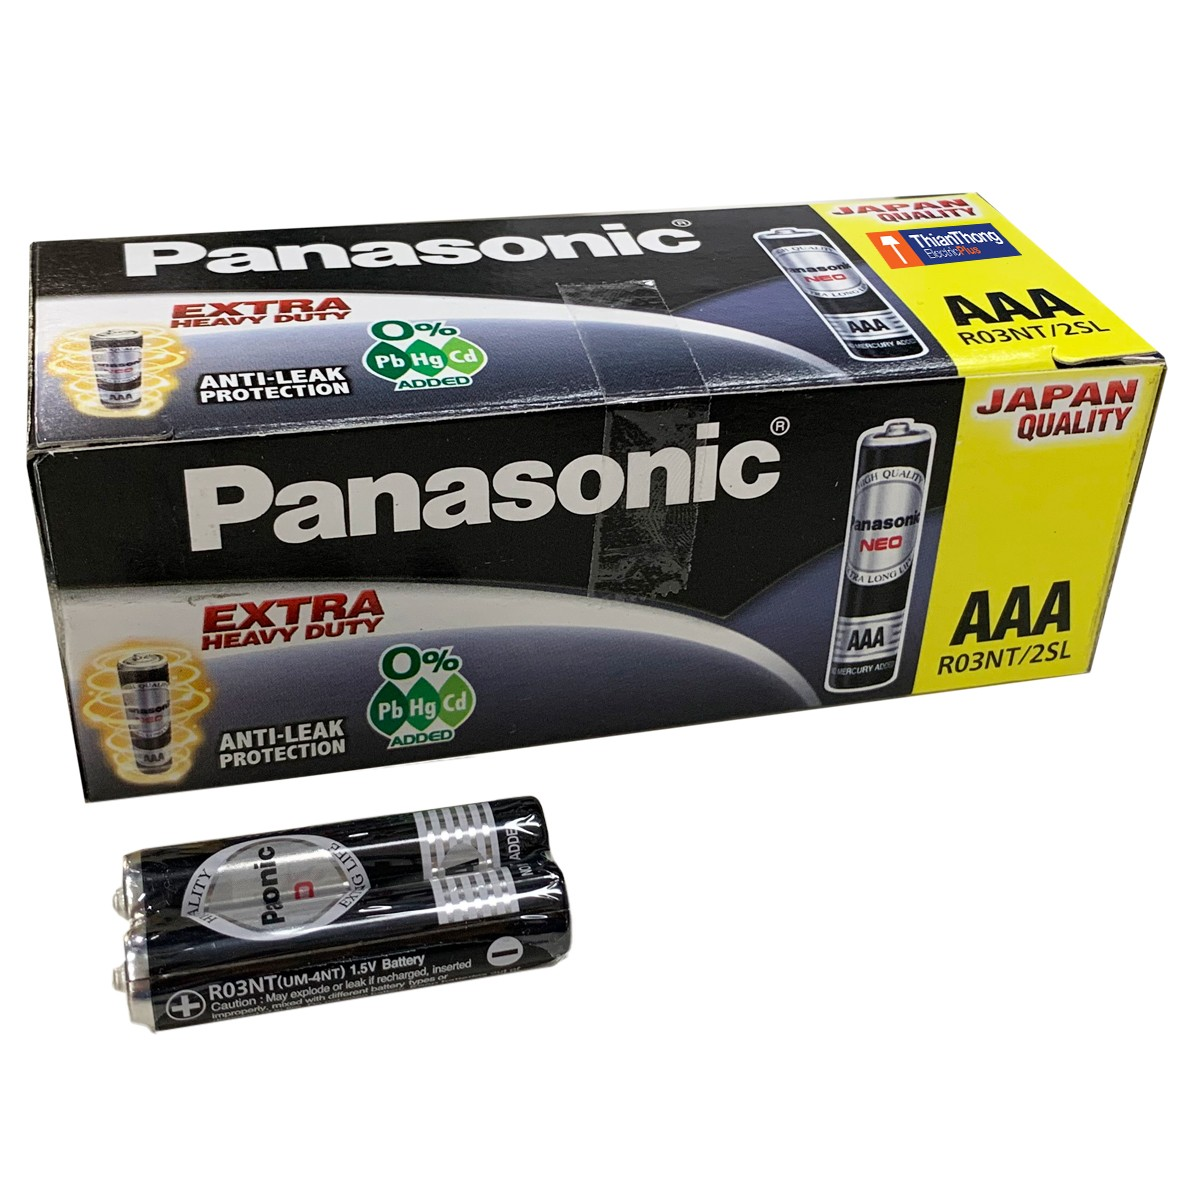Battery: (105, 856, 573, 1034), (105, 787, 555, 938)
